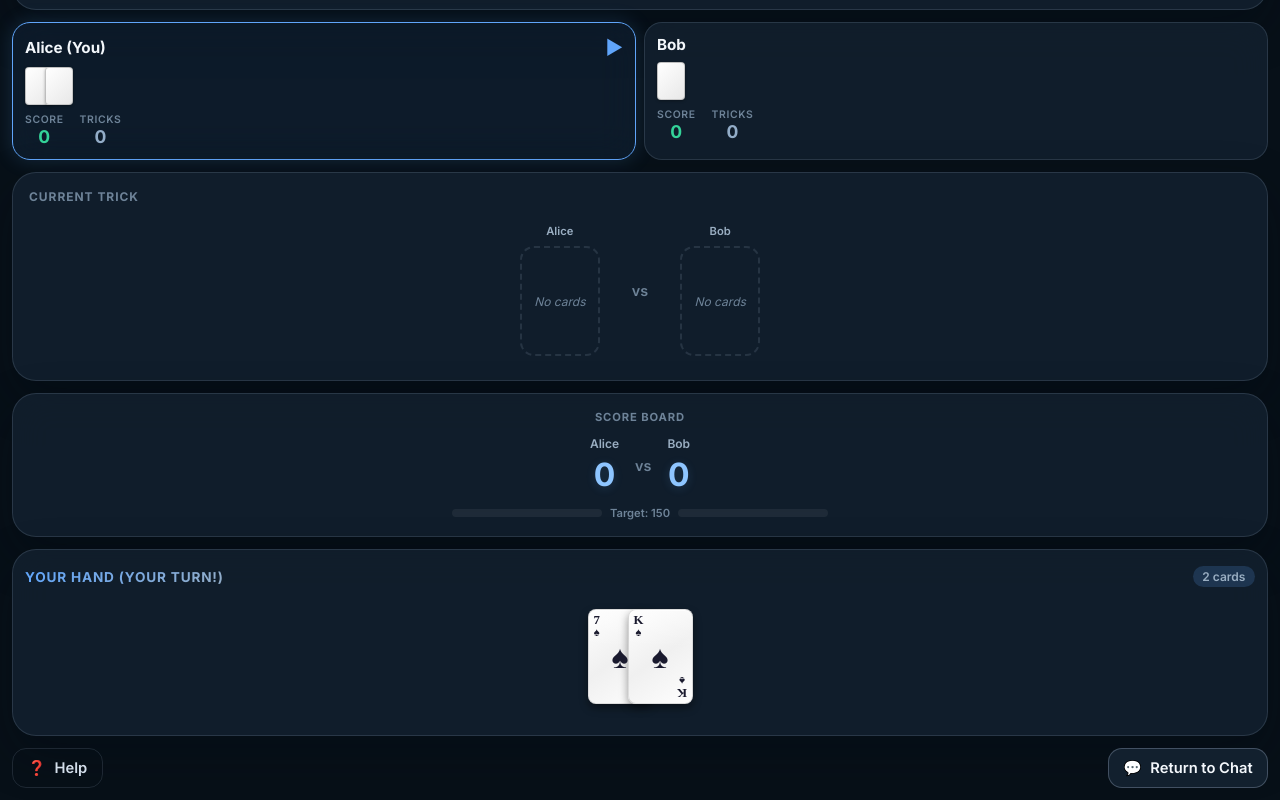
Test case: ShashnBoard interactions › clicking a card selects it
(page scrolled)
# Click the first card
Click the element with class "shashn-card" showing "7 ♠ ♠ 7 ♠" at (620, 657), box x1=588 y1=609 x2=652 y2=704
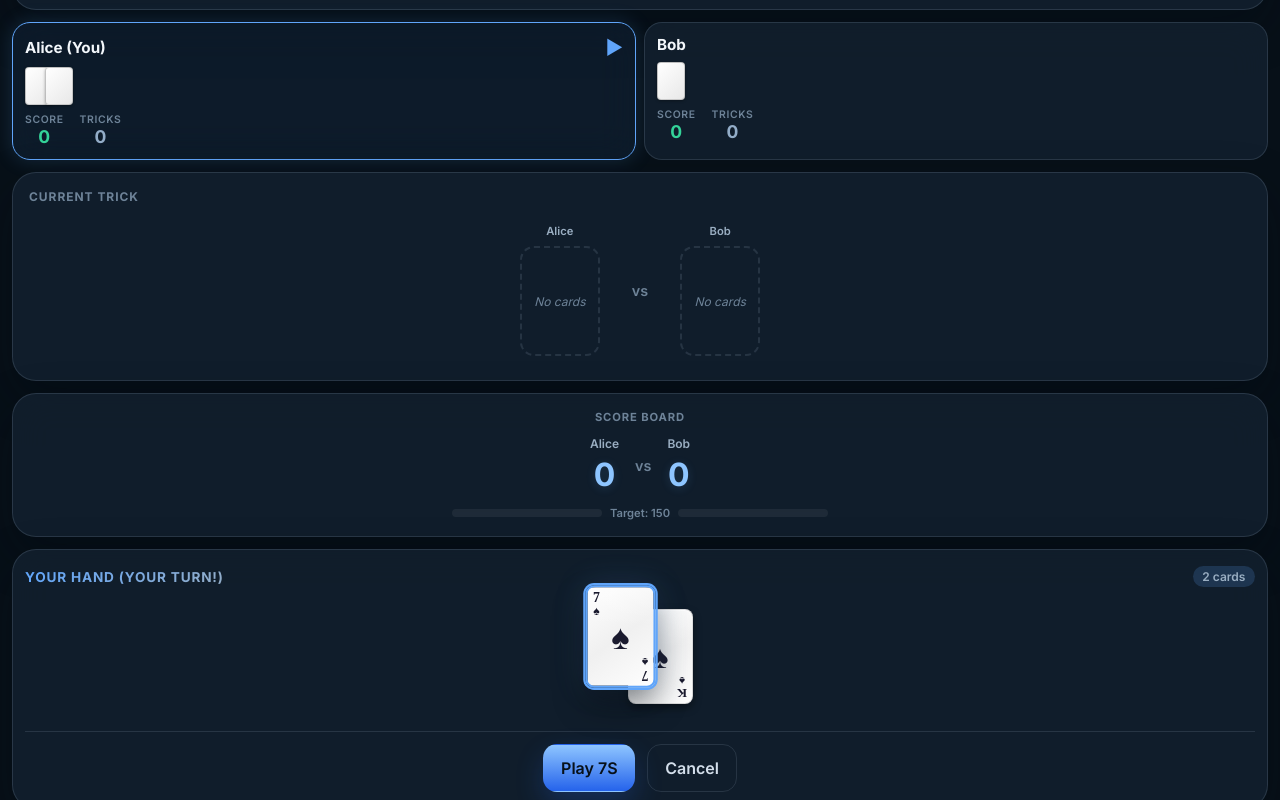
Expected: the button "Play 7S" is shown, x1=543 y1=744 x2=635 y2=792
